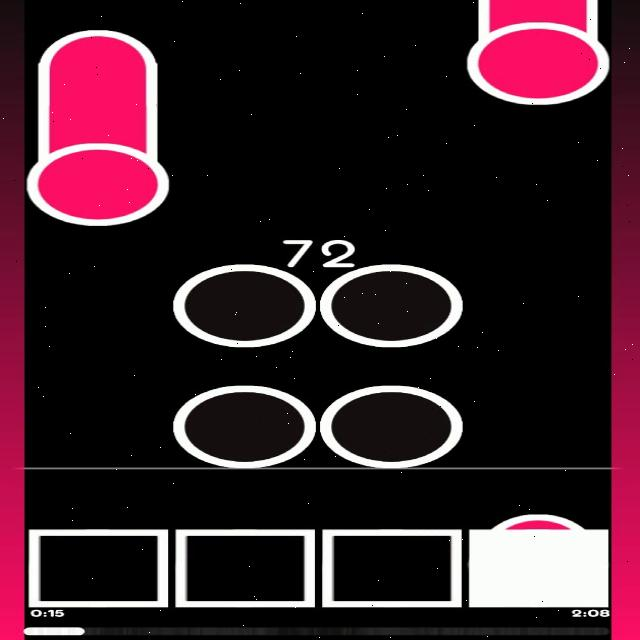end_hold: (36, 22, 163, 68)
note: (316, 381, 468, 471), (169, 379, 314, 469), (323, 260, 465, 347), (172, 263, 314, 346)
start_hold: (28, 116, 173, 227), (461, 0, 609, 108)
